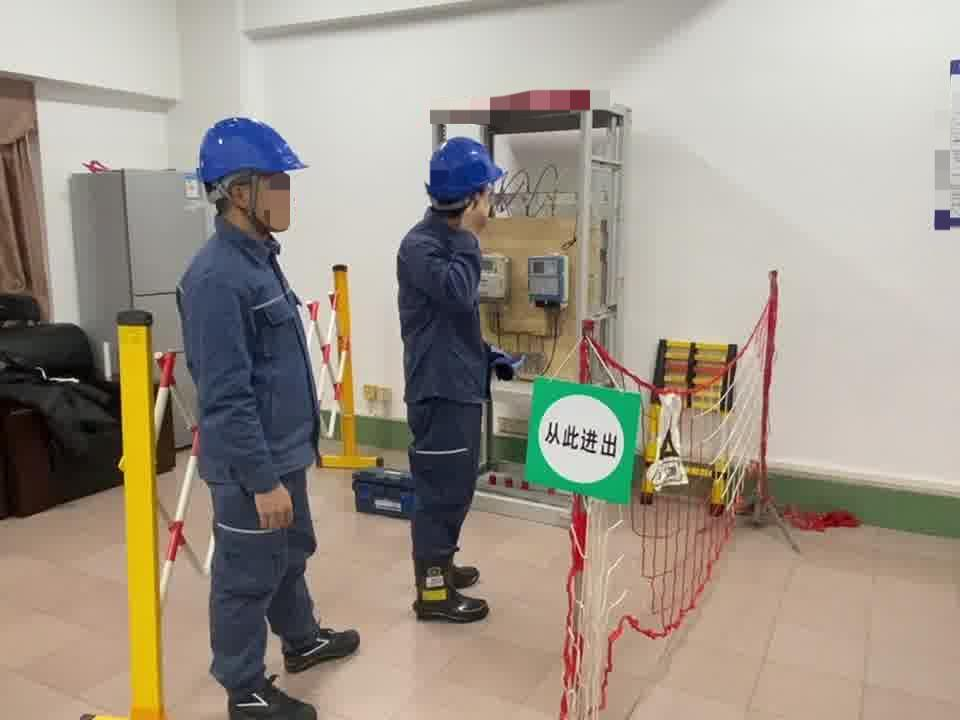halt: (196, 118, 310, 241), (426, 138, 507, 228)
inear: (218, 176, 269, 228)
